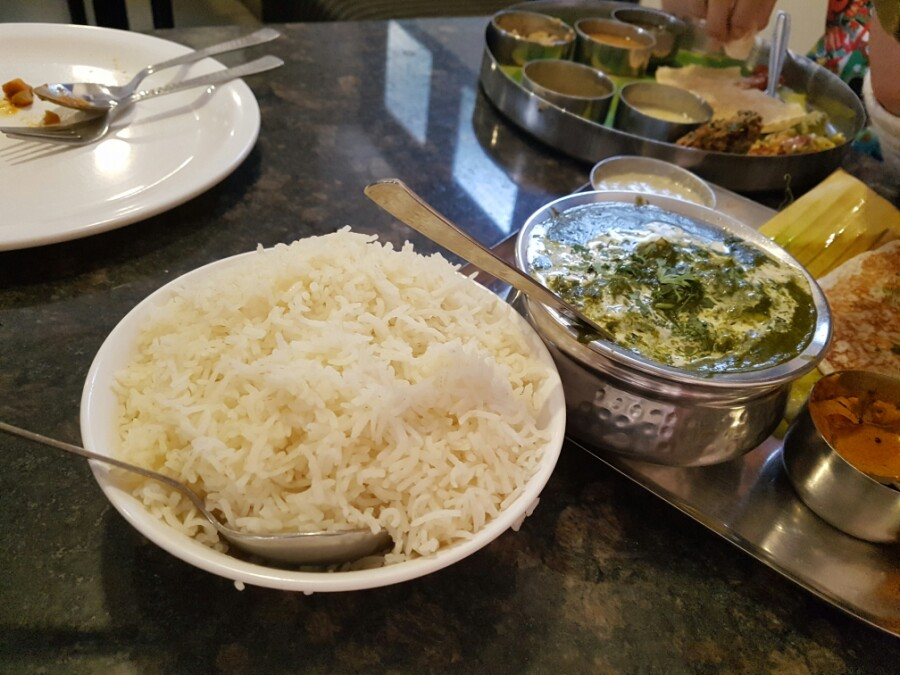plain rice: (166, 280, 498, 469)
